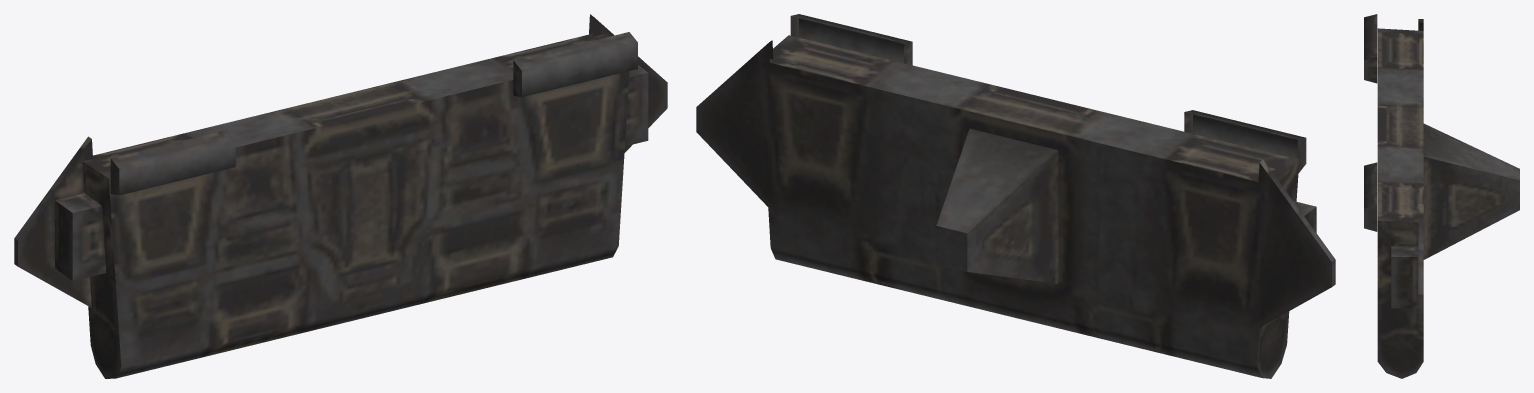
The picture shows the model from 3 angles, left to right: view 1: azimuth 30°, elevation 25°; view 2: azimuth 150°, elevation 25°; view 3: azimuth 270°, elevation 25°; orthographic projection. The views are drawn at different scales.
Visible parts, largest first — view 1: set_0_group_0; view 2: set_0_group_0; view 3: set_0_group_0.
Boxes of the visible parts, x1=… form: set_0_group_0: x1=14, y1=14, x2=667, y2=378; set_0_group_0: x1=696, y1=14, x2=1335, y2=378; set_0_group_0: x1=1364, y1=14, x2=1519, y2=378.
Bounding box in the file's own units: 0.5644 × 0.1952 × 0.1551.
Materials: 1 (1 with a texture image).
